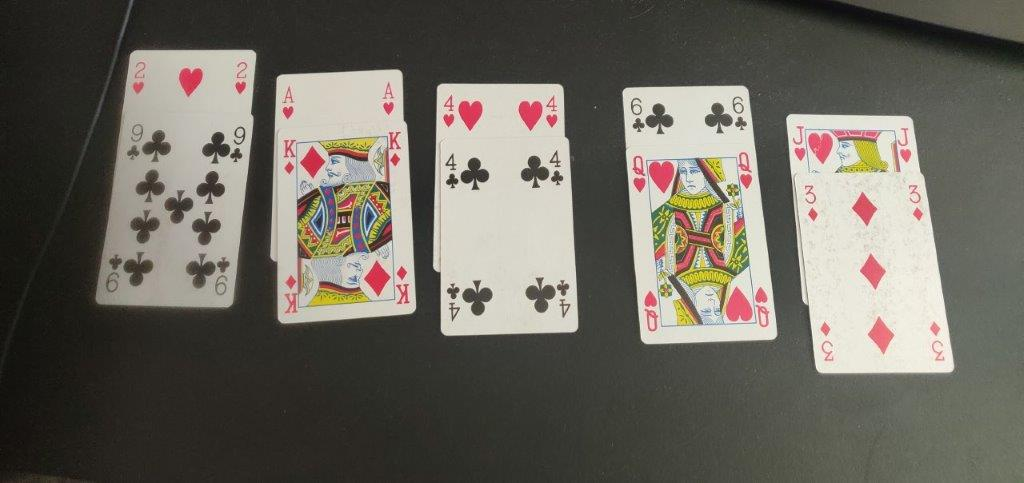2H: (229, 59, 255, 104), (125, 56, 149, 97)
3D: (799, 180, 824, 227), (905, 180, 927, 224)
4C: (546, 147, 567, 191), (440, 152, 462, 190)
4H: (437, 89, 459, 135), (543, 92, 563, 132)
6C: (627, 95, 648, 135), (730, 91, 749, 134)
9C: (120, 121, 147, 170), (227, 125, 250, 166)
AH: (278, 82, 302, 125), (377, 79, 400, 121)
JH: (893, 121, 914, 166), (790, 121, 809, 164)
KD: (385, 128, 408, 172), (278, 136, 303, 176)
QH: (627, 152, 651, 198), (735, 149, 756, 192)
